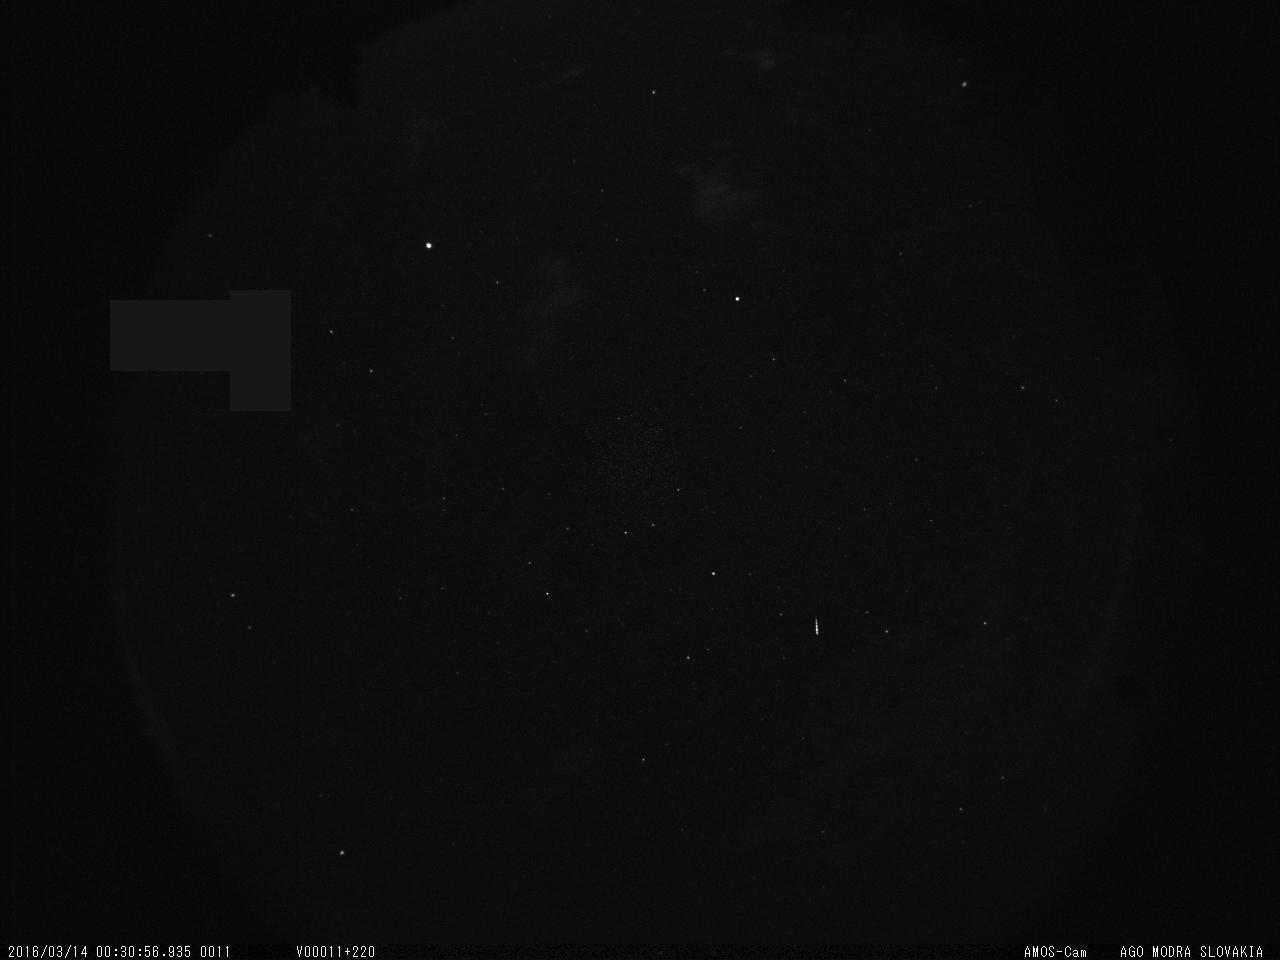meteor: (805, 612, 827, 642)
